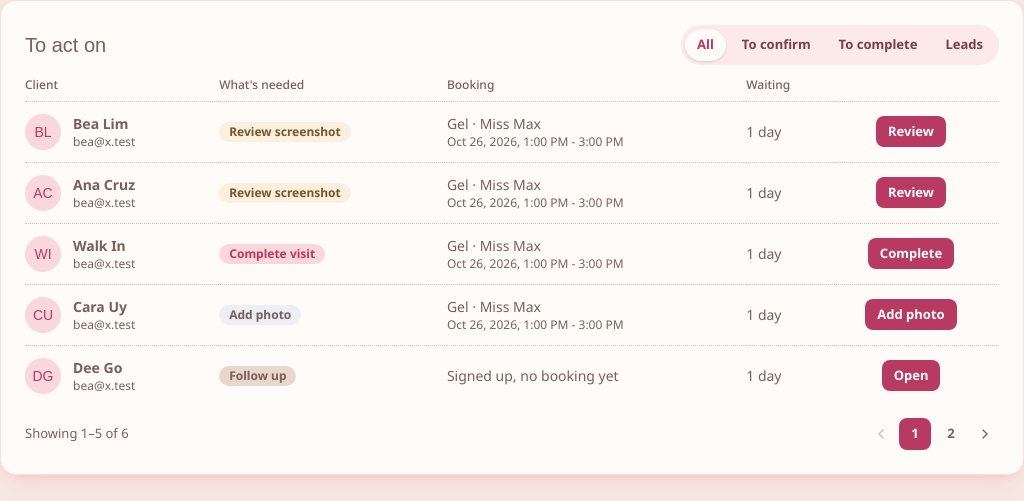
Test case: the dashboard's queue of what to act on › pages through the queue, a page from the server at a time, fetching the next ahead
Expected: the text "Showing 1–5 of 6" is shown, 25,424 -> 129,443
# The next page is fetched before it's asked for
Click the button named "Page 2" at (951, 434), box 935,418 -> 967,450
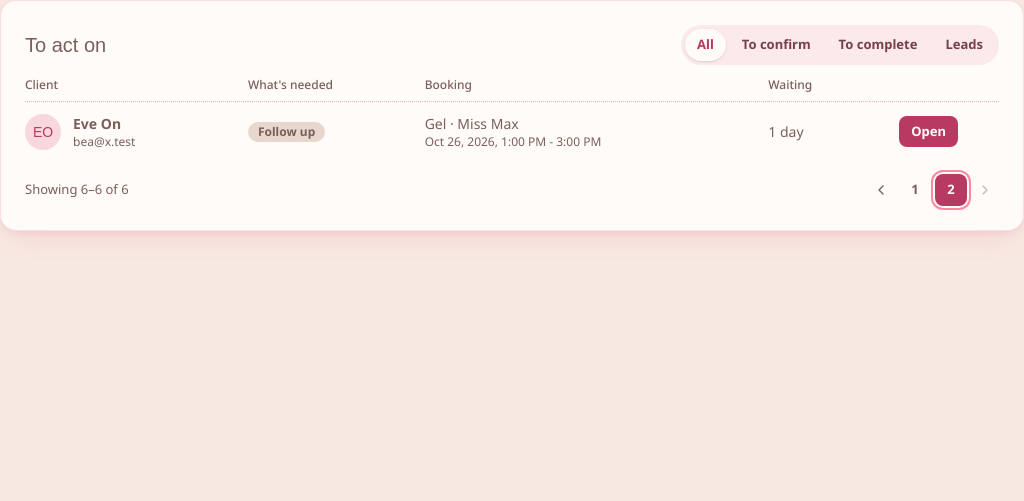
Expected: the text "Eve On" is shown, 73,114 -> 121,132
Expected: the text "Showing 6–6 of 6" is shown, 25,180 -> 129,199
Expected: the text "Bea Lim" is gone
